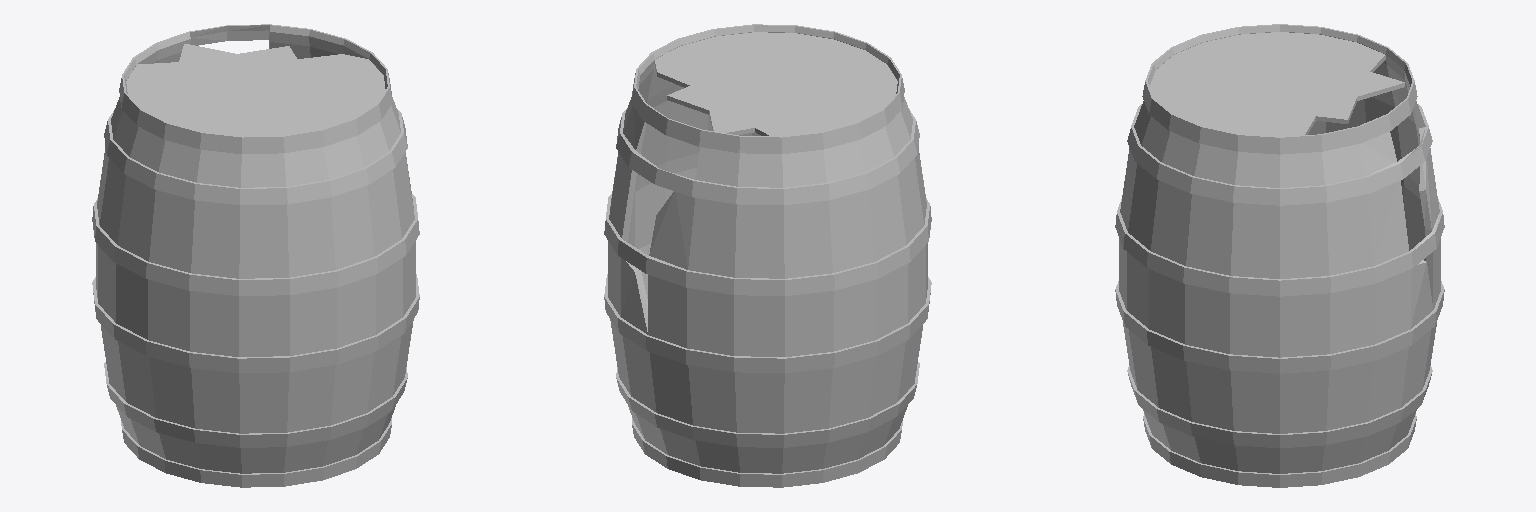
The model's file is Cracked Barrel.obj.
The picture shows the model from 3 angles: view 1: azimuth 30°, elevation 25°; view 2: azimuth 150°, elevation 25°; view 3: azimuth 270°, elevation 25°; orthographic projection.
Visible parts, largest first — view 1: Cracked_Barrel; view 2: Cracked_Barrel; view 3: Cracked_Barrel.
Boxes of the visible parts, <box> form: Cracked_Barrel: <box>92,24,419,487</box>; Cracked_Barrel: <box>604,24,931,487</box>; Cracked_Barrel: <box>1115,24,1444,487</box>.
Size of the model in its own units: 81.1 by 95.12 by 81.1.